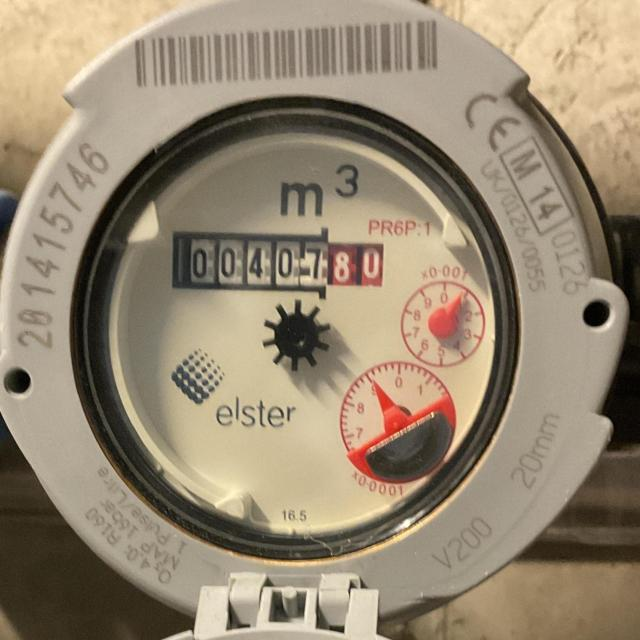gaz_meter: (104, 116, 509, 538)
indication: (175, 237, 384, 291)
